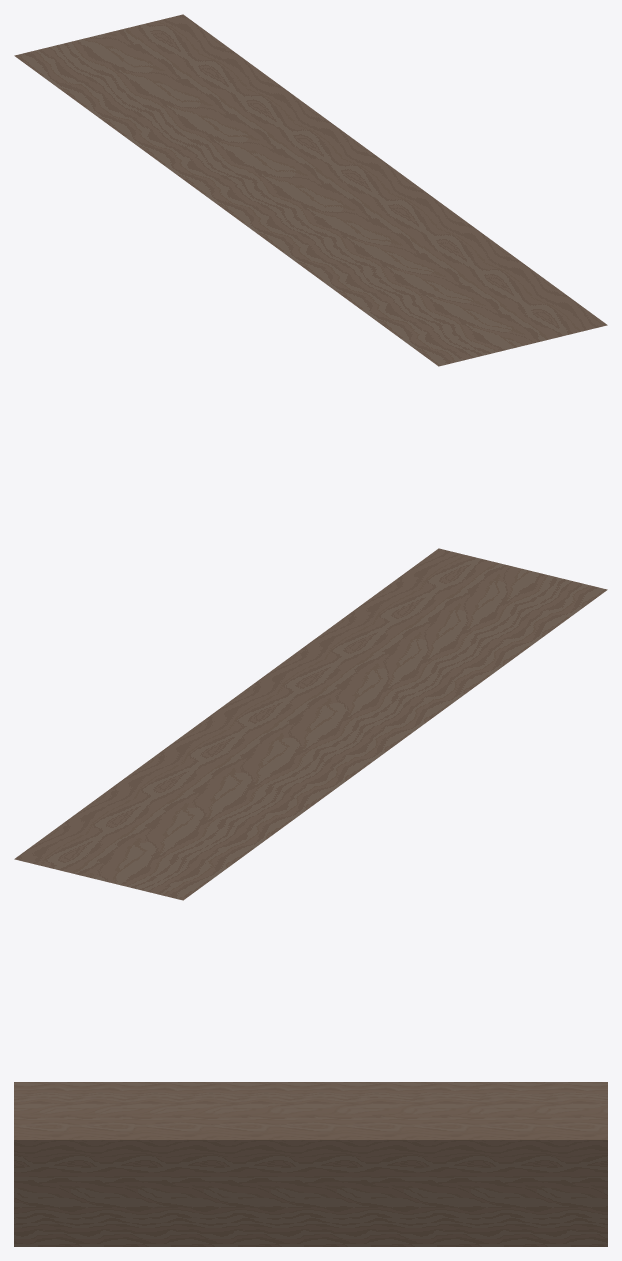
Rendered from kd_stage_135b75_4_9_bounded_portal.glb.
3 views of the same model, one above another, from view 1: azimuth 30°, elevation 25°; view 2: azimuth 150°, elevation 25°; view 3: azimuth 270°, elevation 25° (orthographic). The views are drawn at different scales.
Parts seen in each view (by area): view 1: kd_stage_135b75_4_9_bounded_portal; view 2: kd_stage_135b75_4_9_bounded_portal; view 3: kd_stage_135b75_4_9_bounded_portal.
Part boxes in pixels (x1,y1,x2,y2): kd_stage_135b75_4_9_bounded_portal: (14,14,607,366); kd_stage_135b75_4_9_bounded_portal: (14,548,607,900); kd_stage_135b75_4_9_bounded_portal: (14,1082,607,1246).
Bounding box in the file's own units: 0.1492 × 0.1289 × 0.6484.
1 material, 1 textured.
